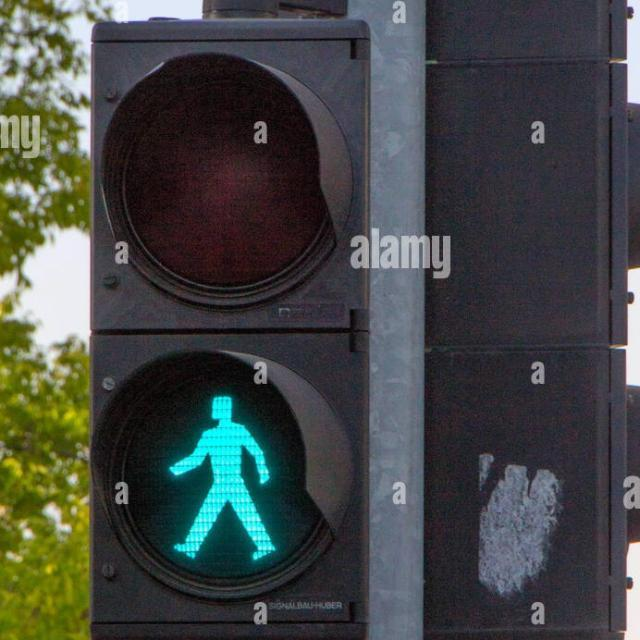geen-crossing: (157, 390, 280, 565)
